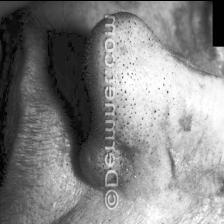Non-Cancerous Skin Condition: (116, 36, 170, 184)
